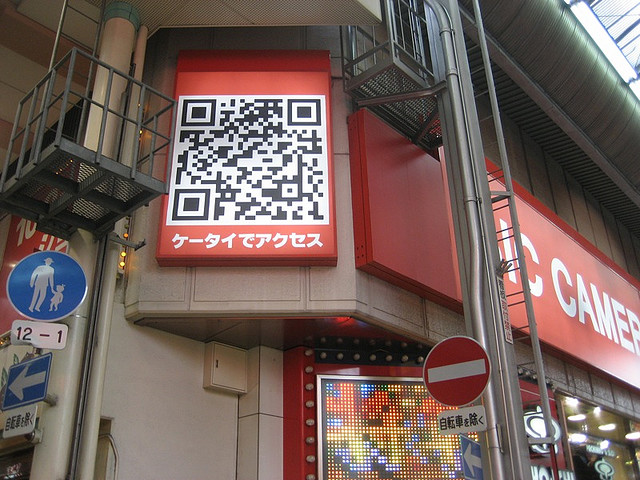QR-CODE: (172, 99, 323, 219)
